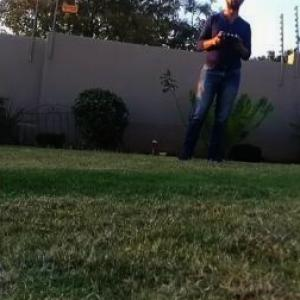follow: (169, 0, 256, 168)
